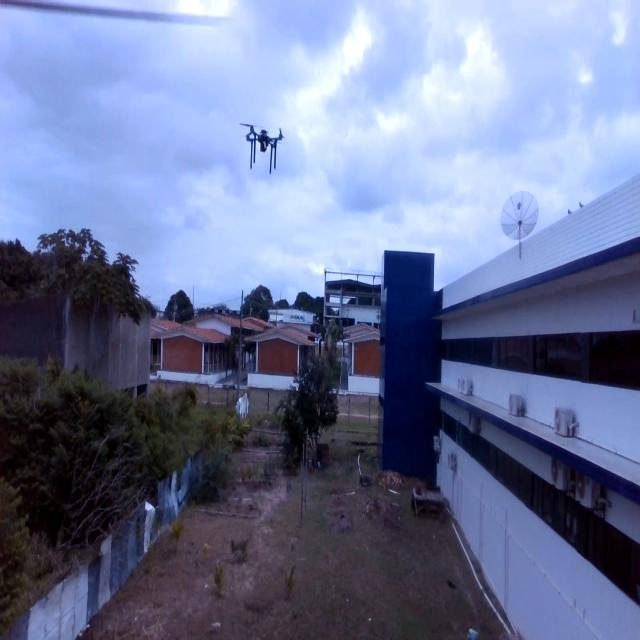-uav-: (236, 110, 292, 196)
